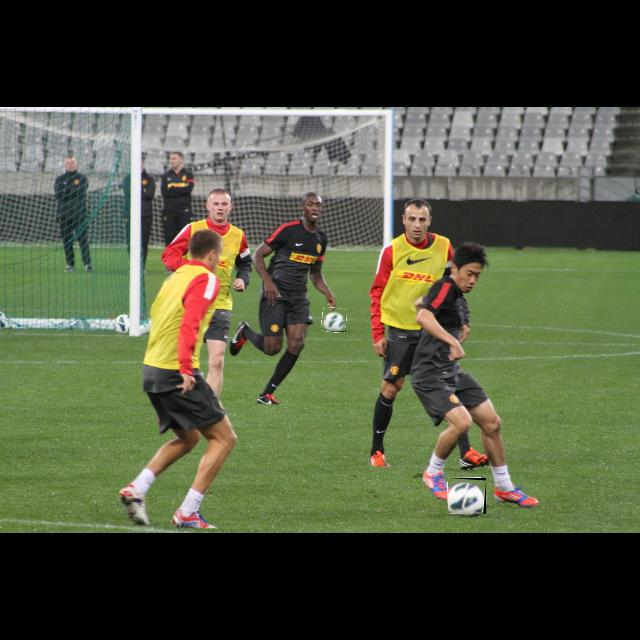Football: (448, 478, 486, 514), (322, 308, 346, 332)
